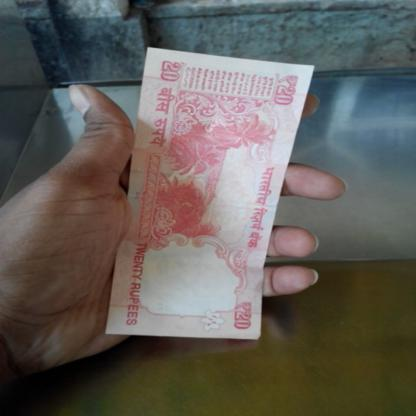Old20Back: (106, 48, 314, 340)
